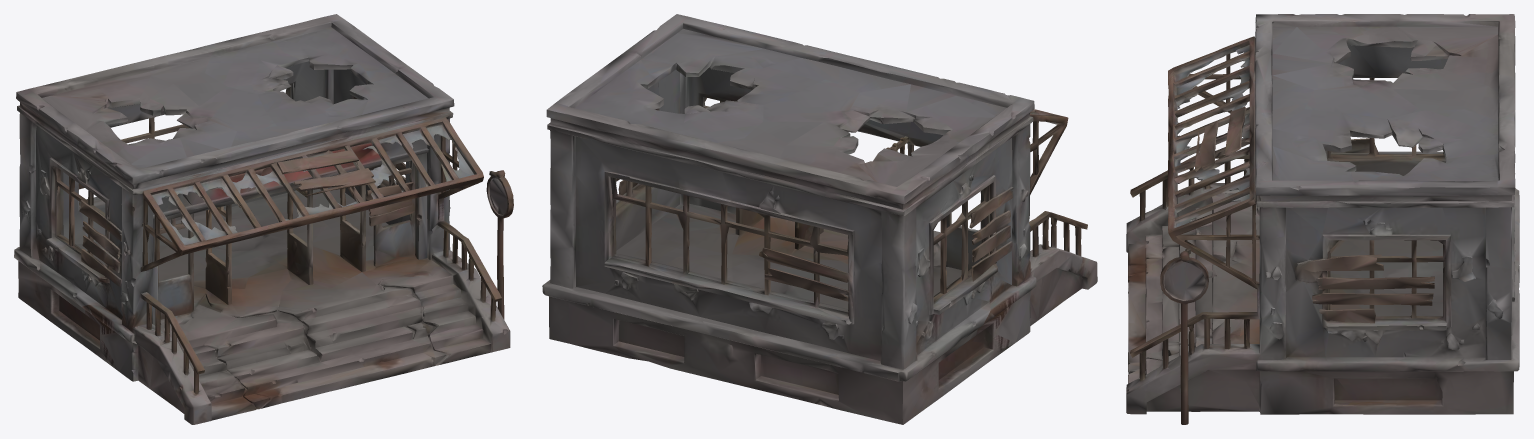
File: auto_repair_idle.glb
3 views of the same model, side by side, from view 1: azimuth 30°, elevation 25°; view 2: azimuth 150°, elevation 25°; view 3: azimuth 270°, elevation 25° (orthographic). The views are drawn at different scales.
Parts seen in each view (by area): view 1: tripo_node_fbe1f235-fcbe-46c2-be5d-d65a882b6b10; view 2: tripo_node_fbe1f235-fcbe-46c2-be5d-d65a882b6b10; view 3: tripo_node_fbe1f235-fcbe-46c2-be5d-d65a882b6b10.
Boxes of the visible parts, box(x1,y1,x2,y2) form: tripo_node_fbe1f235-fcbe-46c2-be5d-d65a882b6b10: box(14, 14, 513, 424); tripo_node_fbe1f235-fcbe-46c2-be5d-d65a882b6b10: box(542, 14, 1097, 424); tripo_node_fbe1f235-fcbe-46c2-be5d-d65a882b6b10: box(1126, 14, 1519, 424).
Size of the model in its own units: 10 by 5.79 by 9.02.
1 material, 1 textured.
